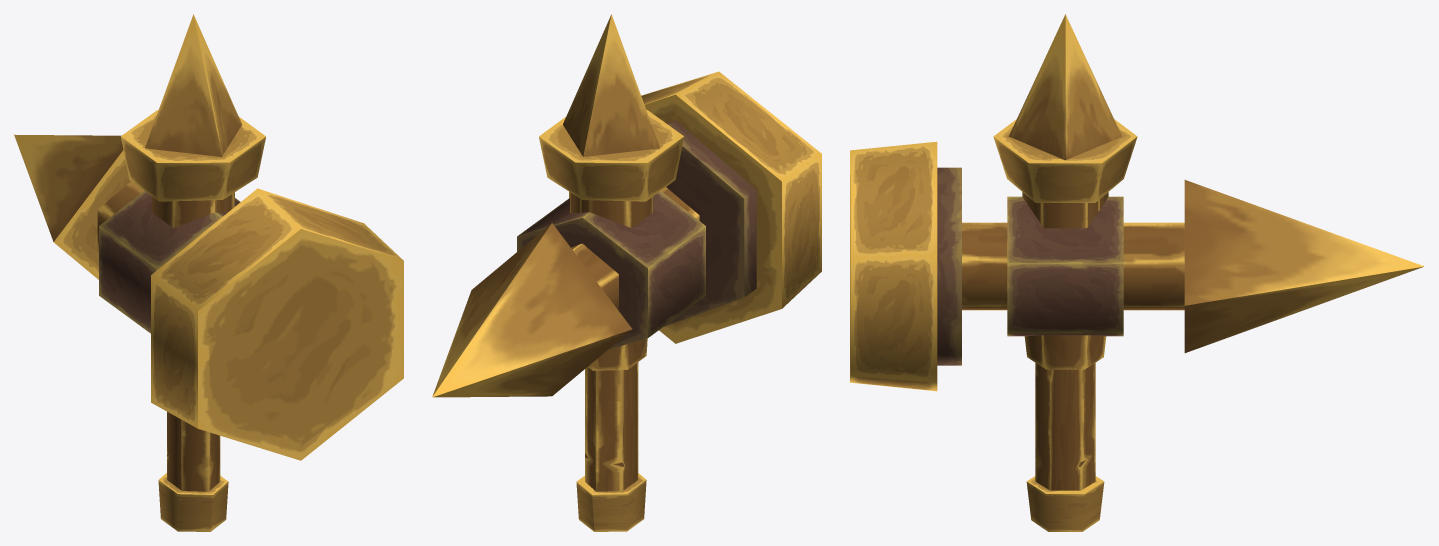
The model's file is SM_WEP_head_hammer_battle_04.fbx.
3 views of the same model, side by side, from view 1: azimuth 30°, elevation 25°; view 2: azimuth 150°, elevation 25°; view 3: azimuth 270°, elevation 25° (orthographic).
Visible parts, largest first — view 1: SM_WEP_head_hammer_battle_04; view 2: SM_WEP_head_hammer_battle_04; view 3: SM_WEP_head_hammer_battle_04.
Boxes of the visible parts, <box> form: SM_WEP_head_hammer_battle_04: <box>14,14,403,531</box>; SM_WEP_head_hammer_battle_04: <box>432,14,821,531</box>; SM_WEP_head_hammer_battle_04: <box>850,14,1424,531</box>.
Size of the model in its own units: 24.6 by 55.76 by 57.38.
